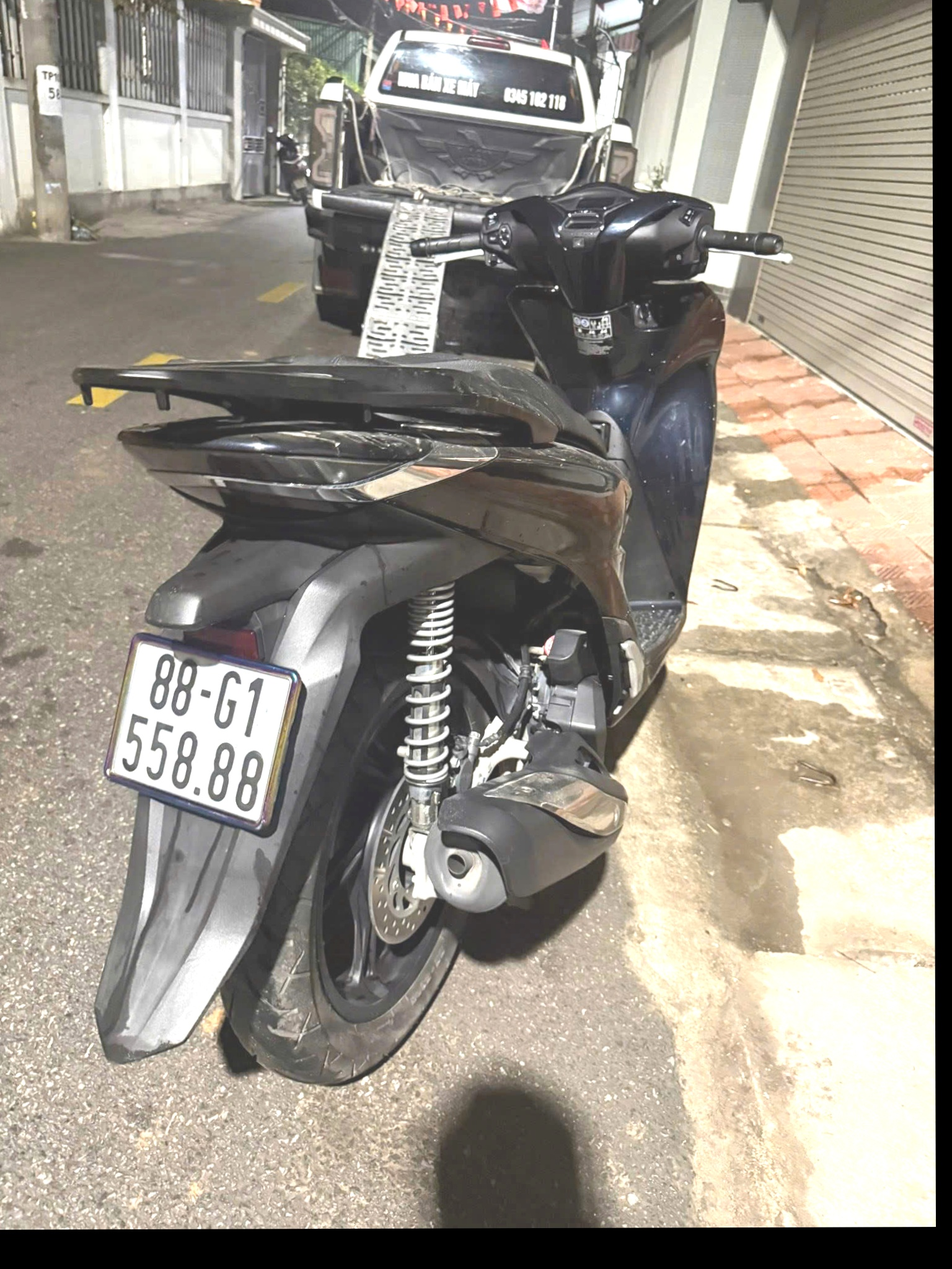Bien-so: (118, 683, 307, 871)
